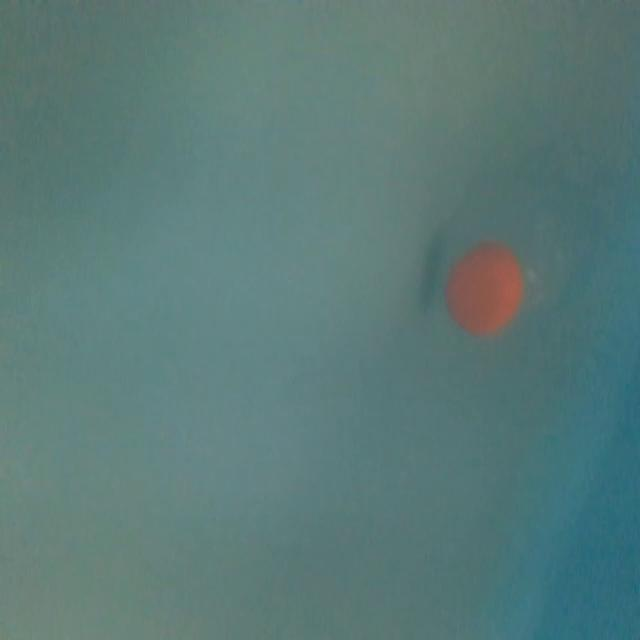plastic bottle: (450, 164, 580, 338)
